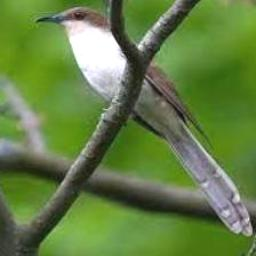Cuckoo: (34, 6, 251, 236)
